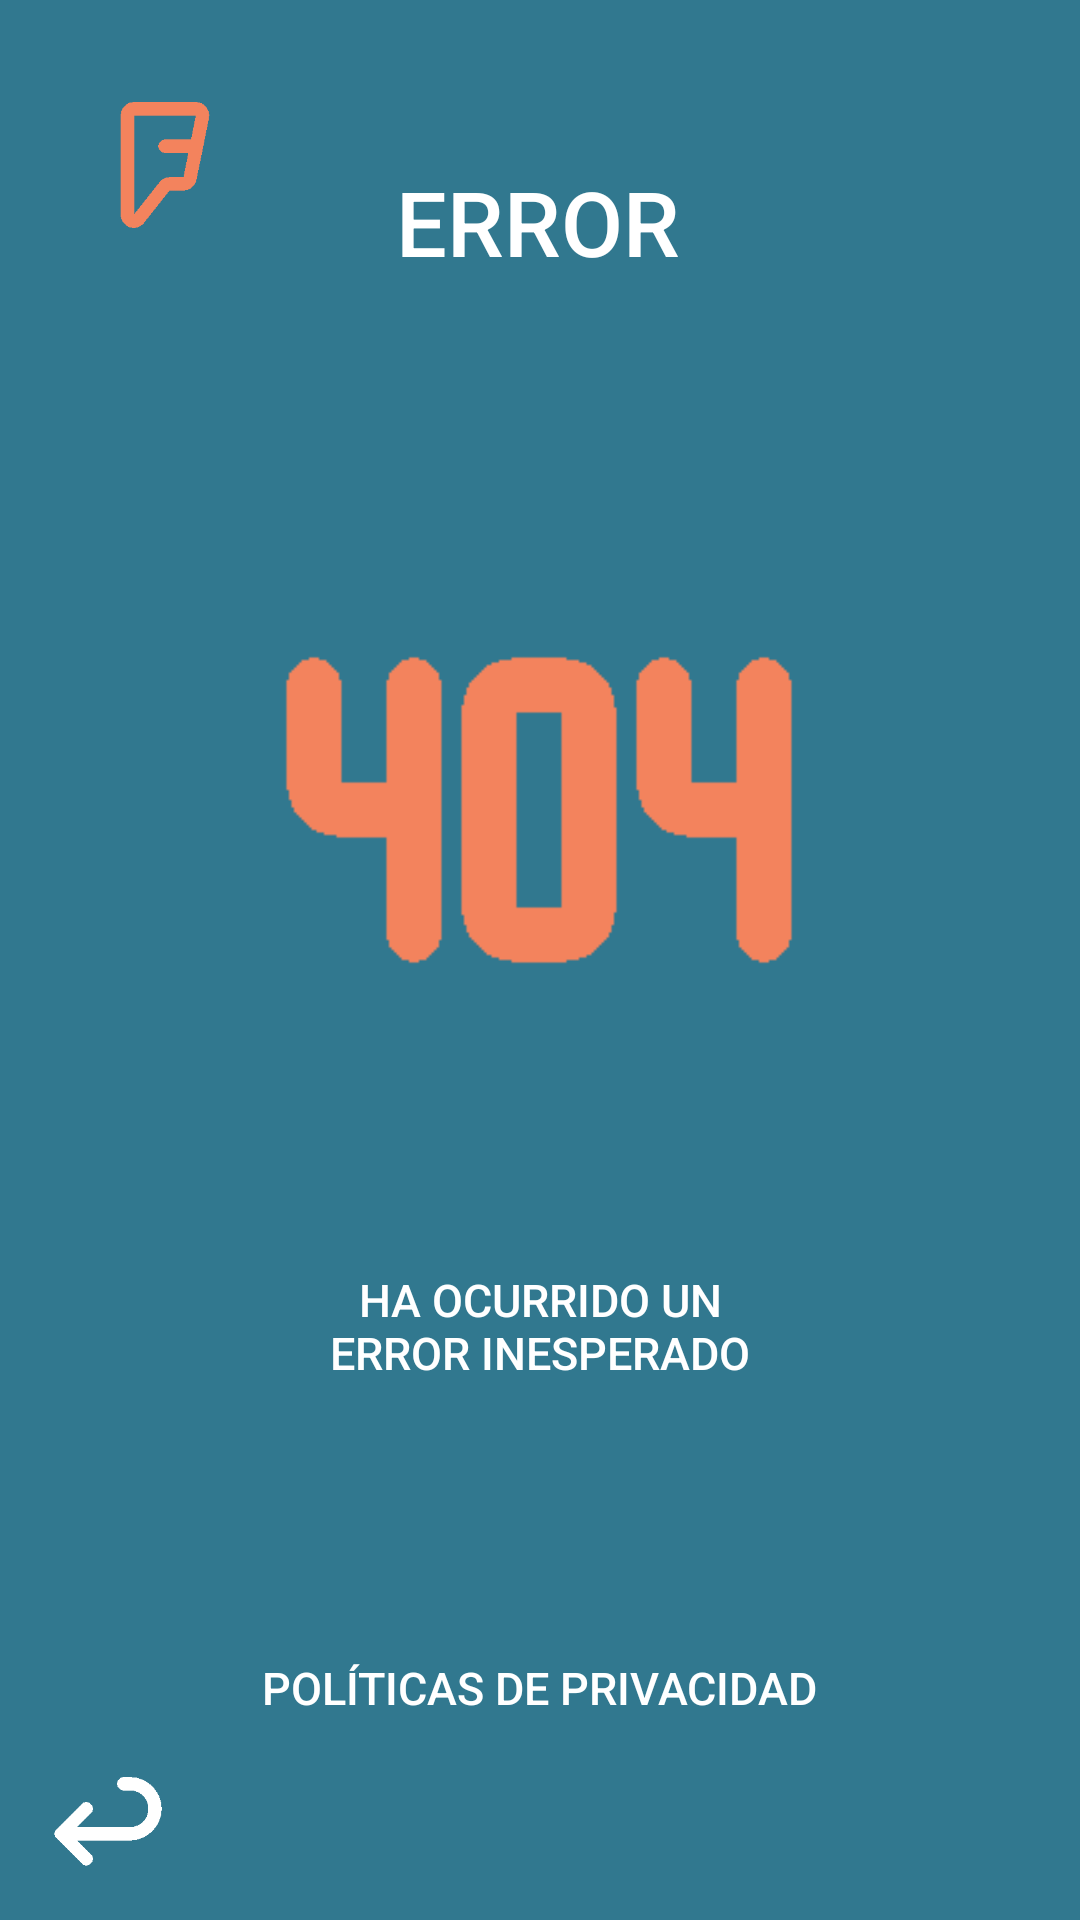

Icons on this 1080×1920 Android screen, each with its box as (x1, y1, x2, y2):
arrow back: (54, 1777, 162, 1866)
